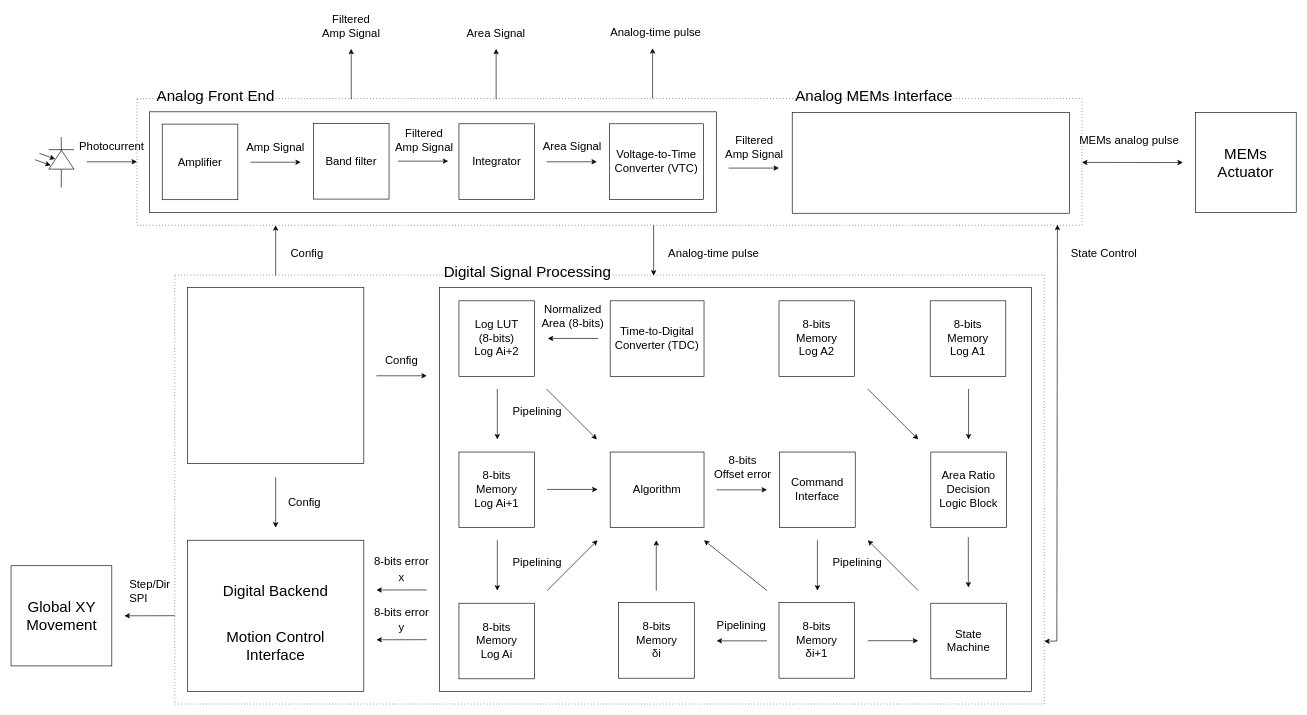
The diagram is 1307 pixels wide and 715 high, and some of its shapes have lost their labels. Each missing label, with the box of its shape:
Analog Wave Mixer MEMs vibration phase module: (792, 112, 1069, 213)
User Instruction: (187, 287, 364, 463)
